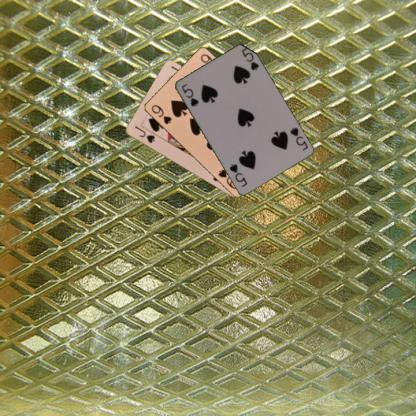5s: (178, 81, 200, 108), (287, 125, 309, 152)
9s: (148, 102, 172, 126)
Js: (132, 124, 156, 145)
